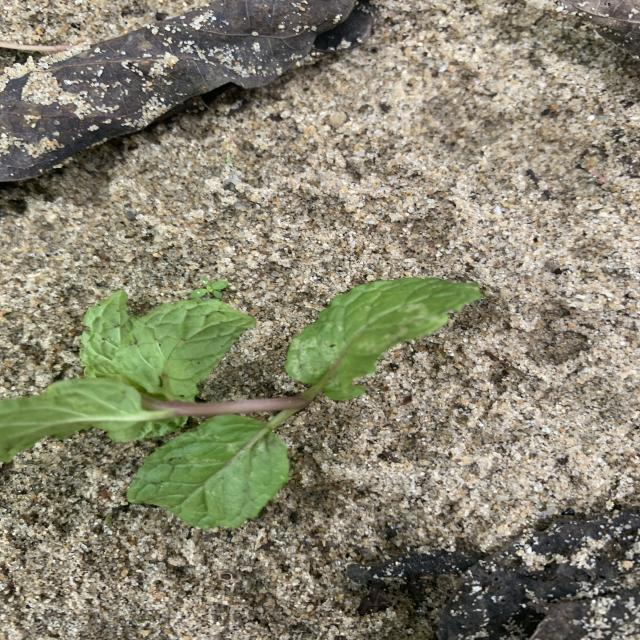crop: (5, 278, 481, 528)
weed: (190, 278, 227, 299)
